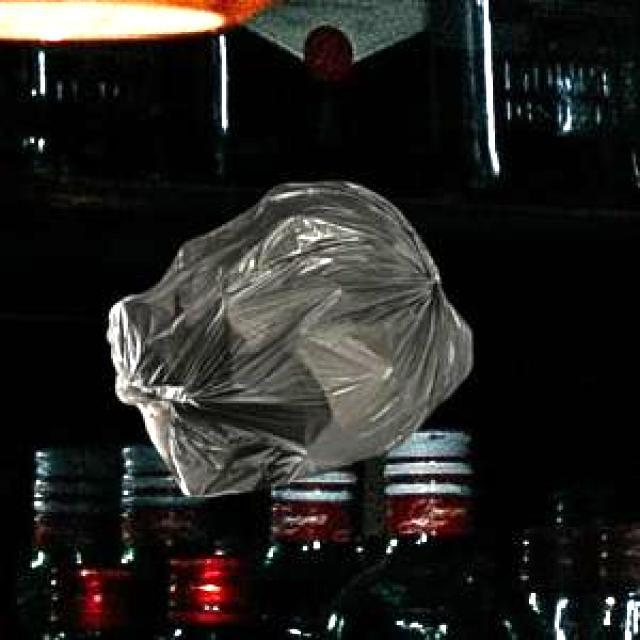Bolsa-de-nilon: (105, 180, 477, 498)
